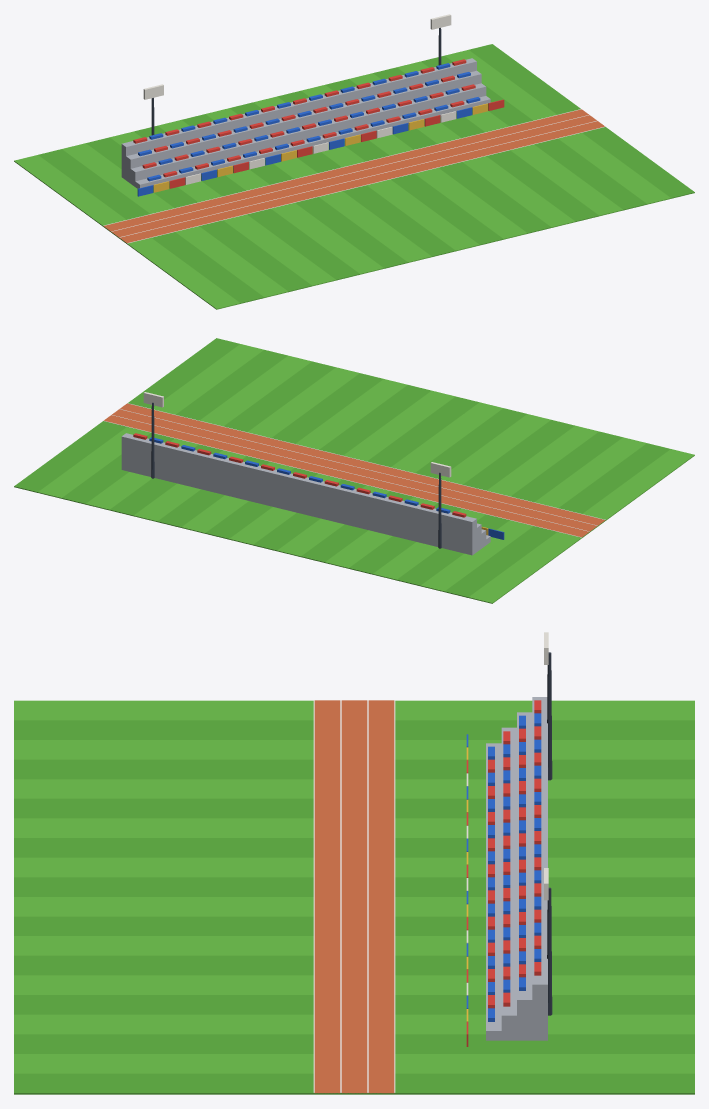
The model's file is field.fbx.
The picture shows the model from 3 angles, top to bottom: view 1: azimuth 30°, elevation 25°; view 2: azimuth 150°, elevation 25°; view 3: azimuth 270°, elevation 25°; orthographic projection. The views are drawn at different scales.
Visible parts, largest first — view 1: Ground, Stands; view 2: Ground, Stands; view 3: Ground, Stands.
Boxes of the visible parts, x1,y1,x2,y2 form: Ground: [14, 44, 694, 309]; Stands: [121, 14, 504, 196]; Ground: [14, 338, 694, 603]; Stands: [121, 392, 504, 555]; Ground: [14, 700, 694, 1094]; Stands: [466, 632, 552, 1046].
Size of the model in its own units: 60 by 10 by 44.
